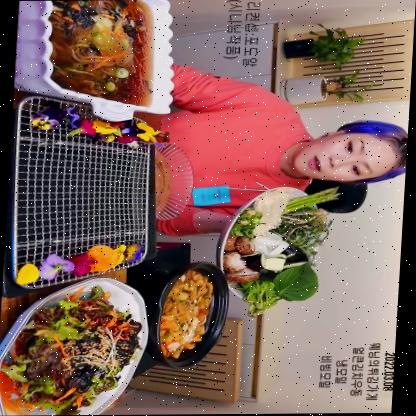streamer: (156, 64, 413, 237)
